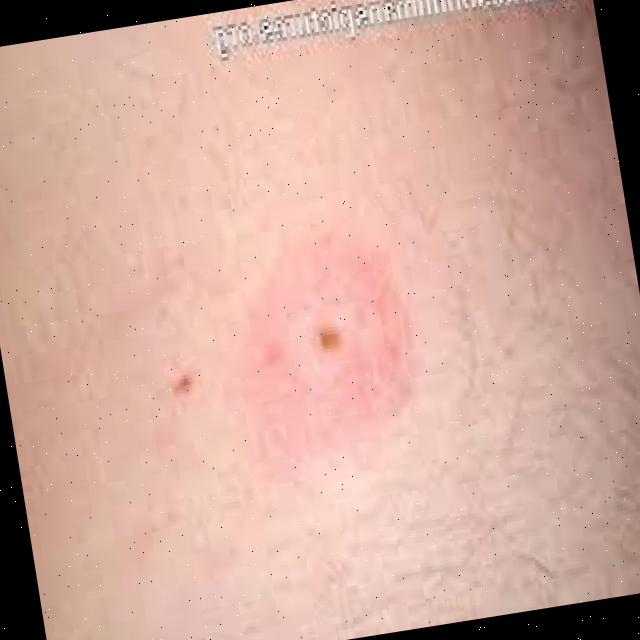kene: (231, 209, 424, 473)
